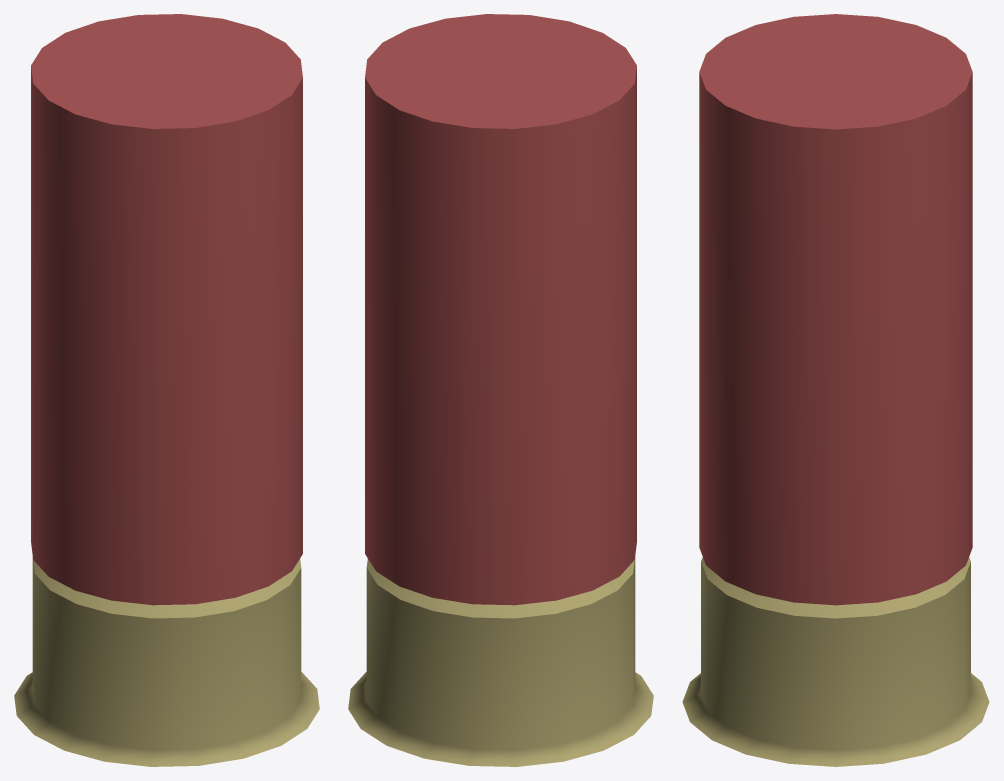
Rendered from cartouche reel.fbx.
3 views of the same model, side by side, from view 1: azimuth 30°, elevation 25°; view 2: azimuth 150°, elevation 25°; view 3: azimuth 270°, elevation 25° (orthographic).
Parts seen in each view (by area): view 1: pCylinder2; view 2: pCylinder2; view 3: pCylinder2.
Part boxes in pixels (<box>): pCylinder2: <box>14,14,319,766</box>; pCylinder2: <box>348,14,653,766</box>; pCylinder2: <box>682,14,989,766</box>.
Size of the model in its own units: 2.25 by 5.09 by 2.25.
